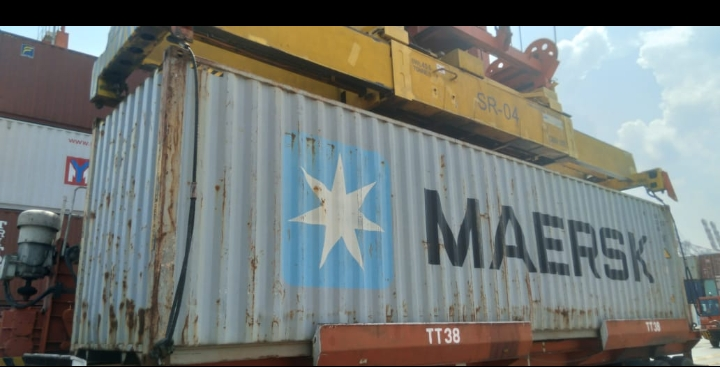dented: (523, 289, 630, 317)
